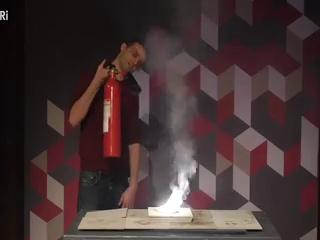Fire: (155, 177, 187, 212)
